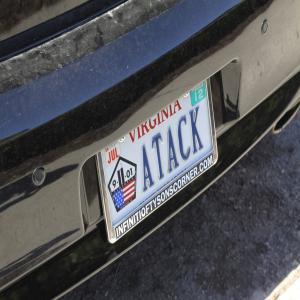Vehicle-registration-plate: (97, 77, 220, 246)
